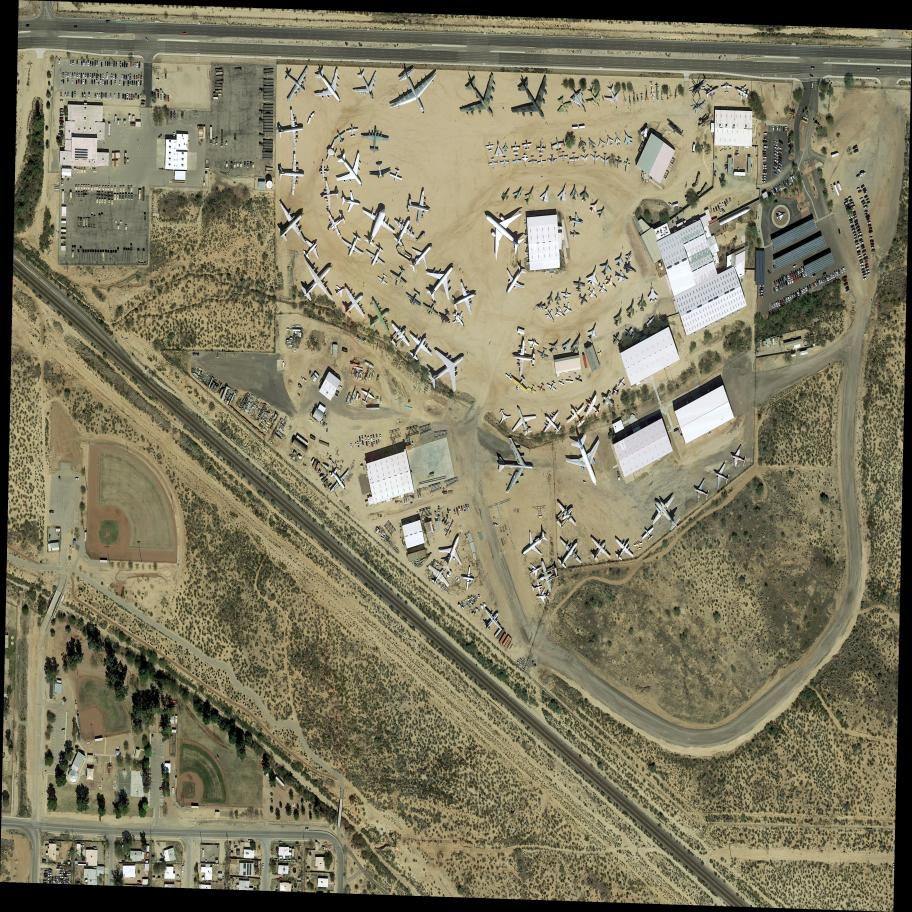large-vehicle: (307, 110, 316, 125), (676, 220, 687, 228), (833, 185, 840, 196), (856, 172, 866, 179), (442, 490, 454, 495), (221, 129, 224, 147), (836, 183, 842, 191), (831, 153, 839, 158), (852, 145, 859, 150), (853, 149, 860, 154), (240, 162, 243, 168), (250, 163, 252, 169), (253, 163, 255, 168), (237, 163, 239, 168), (234, 163, 236, 168)
plane: (463, 190, 541, 273), (373, 54, 454, 130), (442, 61, 518, 136), (497, 63, 571, 137), (285, 247, 353, 317), (418, 336, 477, 402), (264, 191, 322, 257), (559, 428, 613, 495), (634, 485, 694, 545), (321, 140, 380, 201), (412, 250, 471, 311), (347, 198, 407, 257), (300, 55, 357, 115), (269, 54, 321, 109), (494, 436, 537, 496), (545, 527, 595, 578), (331, 277, 377, 329), (396, 232, 444, 281), (429, 528, 473, 580), (357, 294, 402, 344), (344, 61, 388, 111), (397, 324, 444, 370), (494, 257, 536, 303), (511, 523, 556, 565), (546, 494, 588, 537), (382, 211, 423, 255), (504, 398, 543, 444), (380, 315, 422, 357), (320, 461, 360, 500), (334, 228, 374, 266), (403, 185, 436, 230), (581, 530, 619, 569), (447, 277, 482, 319), (420, 558, 458, 595), (276, 108, 307, 153), (319, 203, 353, 244), (277, 151, 307, 197), (605, 531, 643, 567), (293, 231, 329, 269), (557, 397, 595, 433), (534, 404, 570, 442), (474, 603, 510, 640), (508, 338, 538, 378), (533, 556, 563, 595), (359, 241, 394, 274), (359, 123, 392, 157), (578, 387, 608, 424), (564, 82, 594, 117), (384, 263, 415, 293), (709, 458, 735, 493), (505, 369, 536, 398), (581, 83, 609, 115), (689, 476, 714, 509), (726, 441, 750, 475), (318, 177, 341, 212), (401, 284, 429, 311), (419, 295, 446, 321), (602, 83, 626, 112), (447, 306, 472, 333), (552, 93, 577, 119), (339, 189, 363, 215), (583, 261, 604, 290), (700, 79, 725, 103), (597, 386, 620, 412), (368, 159, 394, 181), (321, 138, 342, 165), (567, 330, 586, 358), (356, 385, 379, 408), (637, 522, 660, 544), (731, 81, 753, 104), (492, 404, 515, 426), (544, 334, 565, 357), (520, 183, 539, 208), (583, 321, 602, 346), (540, 303, 560, 326), (459, 565, 476, 591), (601, 272, 622, 293), (526, 559, 546, 581), (330, 125, 350, 147), (537, 183, 555, 206), (436, 307, 455, 328), (549, 135, 567, 157), (610, 306, 627, 329), (586, 196, 605, 216), (551, 303, 571, 322), (612, 268, 633, 286), (597, 258, 615, 279), (558, 335, 576, 356), (619, 127, 636, 149), (556, 181, 572, 204), (623, 298, 639, 321), (609, 330, 627, 350), (620, 260, 640, 278), (510, 183, 527, 204), (642, 314, 661, 332), (620, 325, 639, 343), (568, 211, 585, 231), (584, 285, 602, 303), (332, 281, 349, 300), (535, 345, 553, 362), (543, 378, 561, 395), (374, 271, 392, 288), (387, 167, 405, 184), (575, 290, 592, 308), (498, 186, 514, 204), (646, 282, 659, 304), (536, 587, 551, 606), (612, 251, 627, 270), (594, 204, 610, 221), (621, 249, 637, 266), (524, 337, 541, 353), (595, 280, 611, 297), (560, 299, 575, 317), (530, 578, 544, 597), (575, 134, 589, 153), (614, 375, 630, 391), (345, 122, 360, 139), (319, 160, 330, 182), (572, 277, 587, 293), (493, 141, 505, 160), (585, 135, 598, 152), (637, 292, 647, 313), (603, 133, 616, 149), (609, 382, 622, 398), (560, 286, 573, 302), (579, 186, 591, 203), (621, 156, 633, 173), (526, 381, 539, 396), (589, 149, 601, 165), (545, 291, 556, 308), (503, 370, 517, 383), (511, 154, 523, 169), (487, 156, 499, 171), (570, 184, 580, 202), (612, 130, 622, 148), (535, 140, 546, 156), (580, 149, 590, 166), (600, 153, 612, 167), (596, 136, 608, 150), (499, 155, 510, 170), (632, 539, 645, 551), (775, 210, 788, 222), (521, 139, 533, 152), (535, 382, 548, 394), (553, 290, 562, 307), (613, 155, 623, 170), (536, 155, 548, 167), (527, 155, 538, 168), (558, 150, 569, 163), (534, 300, 547, 311), (511, 141, 521, 155), (569, 153, 580, 165), (721, 83, 733, 94), (521, 153, 529, 168), (569, 229, 581, 239), (485, 141, 495, 153), (557, 377, 567, 389), (547, 155, 557, 166), (574, 374, 584, 385), (564, 376, 575, 386), (595, 347, 604, 358), (502, 142, 509, 153)
small-vehicle: (778, 139, 784, 145), (843, 200, 849, 206), (855, 224, 861, 230), (786, 178, 791, 185), (789, 175, 794, 182), (492, 523, 499, 528), (767, 269, 772, 276), (774, 149, 779, 155), (777, 155, 783, 160), (777, 152, 783, 157), (843, 197, 849, 202), (849, 221, 855, 226), (851, 227, 856, 233), (782, 181, 787, 187), (667, 202, 673, 207), (770, 303, 775, 309), (778, 284, 783, 290), (855, 243, 861, 248), (849, 201, 855, 206), (863, 205, 869, 210), (865, 214, 871, 219), (778, 277, 783, 283), (160, 88, 164, 95), (775, 186, 779, 193), (810, 283, 814, 290), (802, 271, 806, 278), (777, 300, 781, 307), (114, 870, 118, 877), (826, 275, 830, 282), (794, 269, 798, 276), (773, 280, 777, 287), (773, 152, 778, 157), (773, 155, 778, 160), (773, 161, 778, 166), (777, 168, 782, 173), (778, 162, 783, 167), (778, 159, 783, 164), (777, 146, 782, 151), (777, 143, 782, 148), (774, 140, 779, 145), (788, 149, 793, 154), (788, 143, 793, 148), (857, 189, 862, 194), (850, 224, 855, 229), (852, 231, 857, 236), (857, 228, 862, 233), (721, 208, 726, 213), (854, 222, 859, 227), (843, 279, 848, 284), (862, 249, 867, 254), (857, 249, 862, 254), (867, 223, 872, 228), (863, 253, 868, 258), (866, 200, 871, 205), (863, 256, 868, 261), (788, 140, 792, 146), (771, 189, 775, 195), (773, 187, 777, 193), (777, 185, 781, 191), (830, 184, 834, 190), (779, 184, 783, 190), (349, 443, 353, 449), (367, 442, 371, 448), (811, 274, 817, 278), (814, 281, 818, 287), (775, 301, 779, 307), (823, 277, 827, 283), (830, 274, 834, 280), (835, 270, 839, 276), (840, 268, 844, 274), (842, 276, 848, 280), (843, 282, 849, 286), (845, 289, 851, 293), (783, 275, 787, 281), (773, 265, 777, 271), (777, 278, 781, 284), (775, 280, 779, 286), (838, 228, 841, 235), (173, 132, 176, 139), (797, 290, 800, 297), (832, 272, 835, 279), (321, 847, 328, 850), (145, 37, 149, 42), (151, 99, 156, 103), (141, 100, 146, 104), (59, 126, 64, 130), (59, 123, 64, 127), (155, 89, 160, 93), (854, 219, 859, 223), (778, 150, 783, 154), (856, 187, 861, 191), (862, 187, 867, 191), (853, 234, 858, 238), (853, 237, 858, 241), (792, 175, 796, 180), (61, 728, 66, 732), (719, 210, 723, 215), (853, 216, 858, 220), (787, 296, 791, 301), (801, 289, 805, 294), (804, 286, 808, 291), (812, 283, 816, 288), (781, 300, 785, 305), (773, 303, 777, 308), (842, 267, 846, 272), (845, 286, 850, 290), (858, 232, 863, 236), (858, 235, 863, 239), (859, 238, 864, 242), (854, 240, 859, 244), (870, 239, 875, 243), (870, 242, 875, 246), (871, 249, 876, 253), (868, 226, 873, 230), (860, 241, 865, 245), (856, 247, 861, 251), (868, 230, 873, 234), (851, 205, 856, 209), (864, 194, 869, 198), (859, 197, 864, 201), (867, 220, 871, 225), (861, 199, 866, 203), (862, 203, 867, 207), (864, 209, 869, 213), (864, 212, 869, 216), (866, 217, 871, 221), (858, 256, 863, 260), (789, 273, 793, 278), (787, 274, 791, 279), (775, 287, 779, 292), (865, 266, 870, 270), (124, 94, 127, 100), (126, 94, 129, 100), (58, 130, 64, 133), (167, 96, 170, 102), (127, 80, 130, 86), (772, 126, 775, 132), (785, 180, 788, 186), (379, 435, 382, 441), (359, 440, 362, 446), (372, 435, 375, 441), (154, 93, 157, 99), (876, 69, 882, 72), (375, 440, 378, 446), (373, 441, 376, 447), (465, 505, 468, 511), (734, 153, 740, 156), (715, 206, 718, 212), (463, 506, 466, 512), (461, 506, 464, 512), (458, 507, 461, 513), (456, 507, 459, 513), (789, 294, 792, 300), (793, 292, 796, 298), (795, 291, 798, 297), (785, 296, 788, 302), (780, 300, 783, 306), (820, 278, 823, 284), (822, 277, 825, 283), (838, 269, 841, 275), (834, 271, 837, 277), (783, 281, 786, 287), (777, 285, 780, 291), (785, 274, 788, 280), (799, 268, 802, 274), (797, 269, 800, 275), (791, 271, 794, 277), (773, 287, 776, 293), (801, 266, 804, 272), (774, 159, 778, 163), (773, 168, 777, 172), (778, 165, 782, 169), (774, 146, 778, 150), (774, 143, 778, 147), (849, 218, 853, 222), (848, 213, 852, 217), (849, 216, 853, 220), (861, 184, 865, 188), (305, 827, 309, 831), (234, 133, 236, 141), (275, 886, 279, 890), (48, 876, 52, 880), (853, 214, 857, 218), (822, 272, 826, 276), (798, 275, 802, 279), (861, 244, 865, 248), (861, 247, 865, 251), (849, 198, 853, 202), (848, 196, 852, 200), (866, 198, 870, 202), (860, 262, 864, 266), (865, 263, 869, 267), (133, 75, 136, 80), (141, 104, 146, 107), (59, 120, 64, 123), (59, 100, 64, 103), (93, 79, 96, 84), (85, 80, 88, 85), (114, 81, 117, 86), (773, 166, 778, 169), (763, 133, 768, 136), (863, 190, 868, 193), (785, 127, 788, 132), (776, 126, 779, 131), (361, 435, 364, 440), (367, 436, 370, 441), (370, 436, 373, 441), (279, 877, 284, 880), (365, 441, 368, 446), (378, 439, 381, 444), (719, 203, 722, 208), (724, 201, 727, 206), (725, 199, 728, 204), (729, 198, 732, 203), (51, 876, 54, 881), (41, 859, 46, 862), (49, 510, 54, 513), (453, 509, 456, 514), (791, 294, 794, 299), (799, 290, 802, 295), (803, 288, 806, 293), (807, 286, 810, 291), (809, 285, 812, 290), (783, 298, 786, 303), (787, 280, 790, 285), (793, 278, 796, 283), (795, 277, 798, 282), (804, 272, 807, 277), (816, 280, 819, 285), (818, 279, 821, 284), (93, 847, 98, 850), (274, 858, 279, 861), (278, 841, 283, 844), (56, 876, 59, 881), (58, 876, 61, 881), (58, 873, 63, 876), (828, 275, 831, 280), (292, 859, 297, 862), (781, 283, 784, 288), (869, 236, 874, 239), (857, 254, 862, 257), (793, 271, 796, 276), (781, 276, 784, 281), (859, 259, 864, 262), (866, 273, 871, 276), (759, 292, 764, 295), (113, 61, 115, 68), (106, 73, 108, 80), (101, 92, 103, 99), (438, 506, 440, 513), (65, 72, 67, 78), (124, 62, 126, 68), (123, 74, 125, 80), (113, 74, 115, 80), (111, 74, 113, 80), (80, 73, 82, 79), (94, 73, 96, 79), (92, 73, 94, 79), (85, 73, 87, 79), (107, 61, 109, 67), (90, 60, 92, 66), (87, 61, 89, 67), (72, 60, 74, 66), (130, 74, 132, 80), (118, 93, 120, 99), (103, 93, 105, 99), (110, 93, 112, 99), (129, 94, 131, 100), (84, 92, 86, 98), (60, 91, 62, 97), (67, 91, 69, 97), (74, 91, 76, 97), (100, 79, 102, 85), (83, 79, 85, 85), (140, 80, 142, 86), (110, 79, 112, 85), (160, 95, 162, 101), (157, 93, 159, 99), (165, 74, 167, 80), (130, 81, 132, 87), (60, 868, 64, 871), (68, 870, 72, 873), (774, 172, 778, 175), (774, 200, 778, 203), (763, 156, 767, 159), (763, 140, 767, 143), (846, 205, 850, 208), (779, 126, 781, 132), (43, 880, 47, 883), (357, 441, 359, 447), (44, 870, 48, 873), (59, 758, 63, 761), (152, 91, 154, 97), (44, 873, 48, 876), (468, 504, 470, 510), (717, 205, 720, 209), (722, 203, 725, 207), (45, 844, 49, 847), (26, 24, 30, 27), (447, 509, 450, 513), (785, 281, 788, 285), (789, 280, 792, 284), (791, 279, 794, 283), (797, 276, 800, 280), (793, 265, 797, 268), (271, 848, 273, 854), (262, 864, 264, 870), (182, 866, 184, 872), (283, 859, 287, 862), (871, 246, 875, 249), (852, 212, 856, 215), (866, 270, 870, 273), (865, 261, 869, 264), (861, 268, 865, 271), (862, 271, 866, 274), (863, 274, 867, 277), (863, 277, 867, 280), (69, 73, 71, 78), (67, 73, 69, 78), (139, 63, 141, 68), (136, 63, 138, 68), (134, 62, 136, 67), (130, 62, 132, 67), (126, 63, 128, 68), (115, 62, 117, 67), (74, 73, 76, 78), (76, 73, 78, 78), (78, 74, 80, 79), (102, 74, 104, 79), (125, 75, 127, 80), (121, 75, 123, 80), (115, 74, 117, 79), (100, 74, 102, 79), (87, 73, 89, 78), (82, 74, 84, 79), (109, 62, 111, 67), (105, 61, 107, 66), (101, 62, 103, 67), (81, 60, 83, 65), (96, 61, 98, 66), (92, 61, 94, 66), (85, 61, 87, 66), (83, 62, 85, 67), (70, 60, 72, 65), (96, 93, 98, 98), (105, 92, 107, 97), (122, 94, 124, 99), (88, 93, 90, 98), (131, 95, 133, 100), (94, 93, 96, 98), (135, 94, 137, 99), (59, 114, 64, 116), (61, 859, 63, 864), (59, 118, 64, 120), (59, 112, 64, 114), (59, 109, 64, 111), (133, 95, 135, 100), (136, 75, 138, 80), (96, 79, 98, 84), (91, 79, 93, 84), (78, 79, 80, 84), (67, 79, 69, 84), (63, 79, 65, 84), (140, 75, 142, 80), (138, 75, 140, 80), (104, 80, 106, 85), (140, 94, 142, 99), (138, 81, 140, 86), (135, 81, 137, 86), (125, 81, 127, 86), (123, 81, 125, 86), (119, 80, 121, 85), (159, 789, 164, 791), (763, 167, 768, 169), (763, 146, 768, 148), (783, 127, 785, 132), (365, 436, 367, 441), (376, 434, 378, 439), (811, 67, 816, 69), (371, 442, 373, 447), (362, 440, 364, 445), (48, 869, 53, 871), (713, 208, 715, 213), (182, 33, 187, 35), (801, 273, 803, 278), (287, 860, 292, 862), (759, 295, 764, 297), (759, 290, 764, 292), (74, 25, 77, 28), (122, 63, 124, 67), (96, 74, 98, 78), (106, 21, 110, 23), (58, 60, 60, 64), (58, 134, 62, 136), (137, 95, 139, 99), (102, 81, 104, 85), (56, 868, 60, 870), (763, 165, 767, 167), (762, 181, 766, 183), (762, 178, 766, 180), (762, 175, 766, 177), (763, 173, 767, 175), (763, 170, 767, 172), (763, 159, 767, 161), (763, 151, 767, 153), (763, 149, 767, 151), (44, 876, 48, 878), (48, 872, 52, 874), (48, 874, 52, 876), (75, 478, 79, 480), (67, 874, 71, 876), (248, 840, 252, 842), (80, 845, 84, 847), (65, 879, 69, 881), (60, 876, 64, 878), (63, 873, 67, 875), (280, 859, 284, 861), (860, 266, 864, 268), (760, 284, 764, 286), (760, 287, 764, 289), (72, 91, 73, 98), (63, 73, 64, 79), (133, 62, 134, 68), (120, 62, 121, 68), (95, 60, 96, 66), (128, 74, 129, 80), (82, 92, 83, 98), (65, 92, 66, 98), (763, 154, 766, 156), (764, 138, 767, 140), (72, 73, 73, 78), (112, 62, 113, 67), (90, 73, 91, 78), (99, 93, 100, 98), (114, 94, 115, 99), (81, 79, 82, 84), (107, 80, 108, 85), (72, 79, 73, 84), (132, 80, 133, 85), (77, 61, 78, 65), (76, 80, 77, 84), (156, 79, 160, 80), (134, 81, 135, 85), (55, 876, 56, 880)
